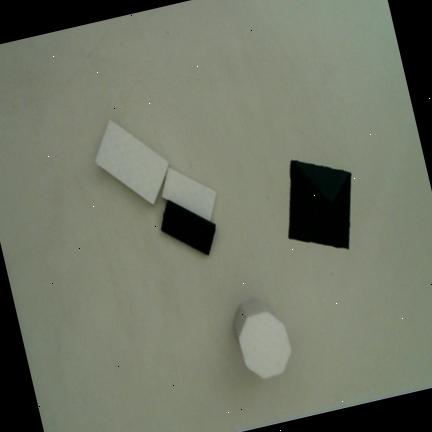Paralelepipedo: (94, 119, 170, 206), (162, 167, 217, 222), (161, 200, 216, 254)
Piramide: (288, 159, 352, 251)
Prisma_hexagonal: (233, 298, 292, 380)
